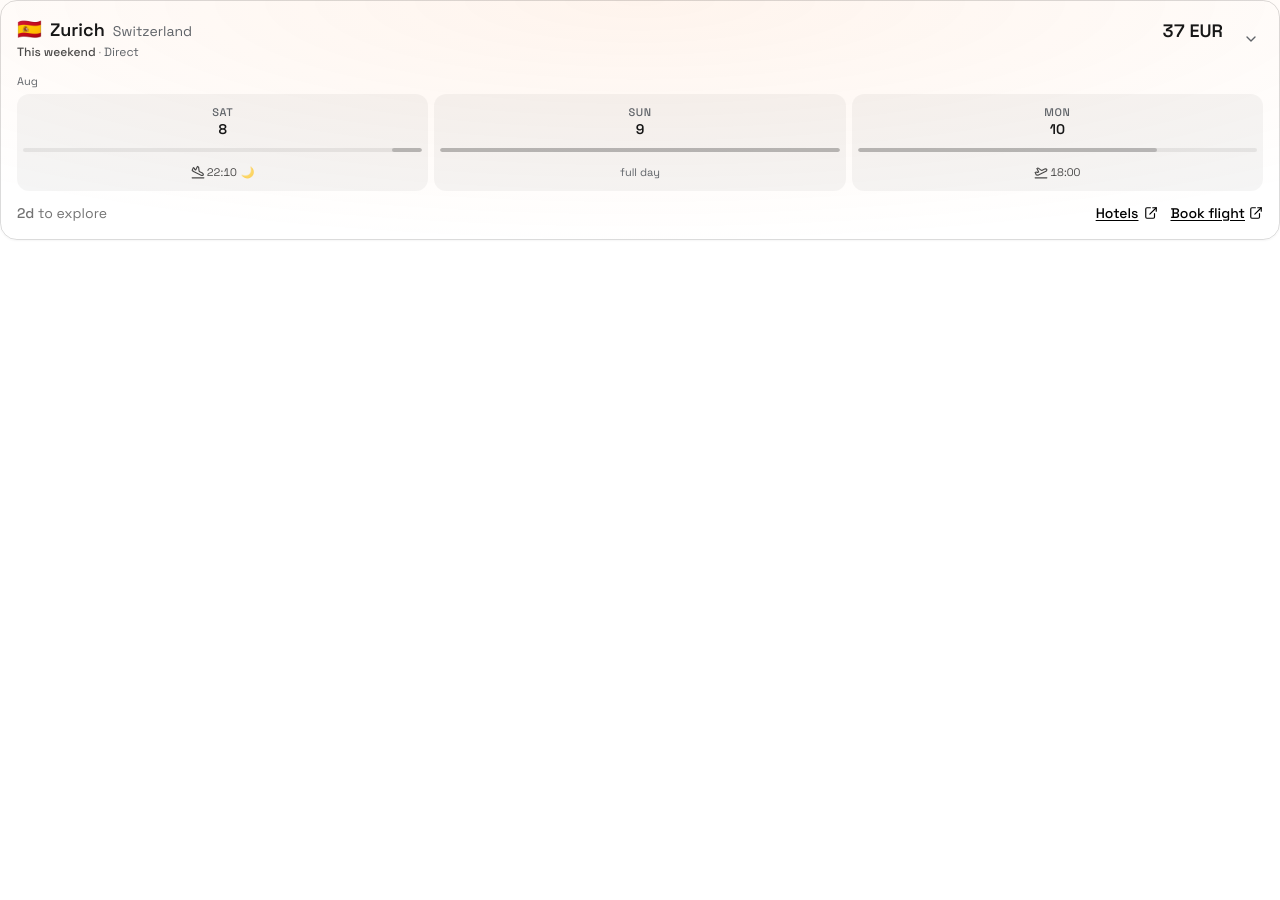
DealCard — regional holidays › hedges a regional holiday to the country, not the city
Click the button named "show details for" at (1251, 39), box x1=1235 y1=17 x2=1267 y2=61
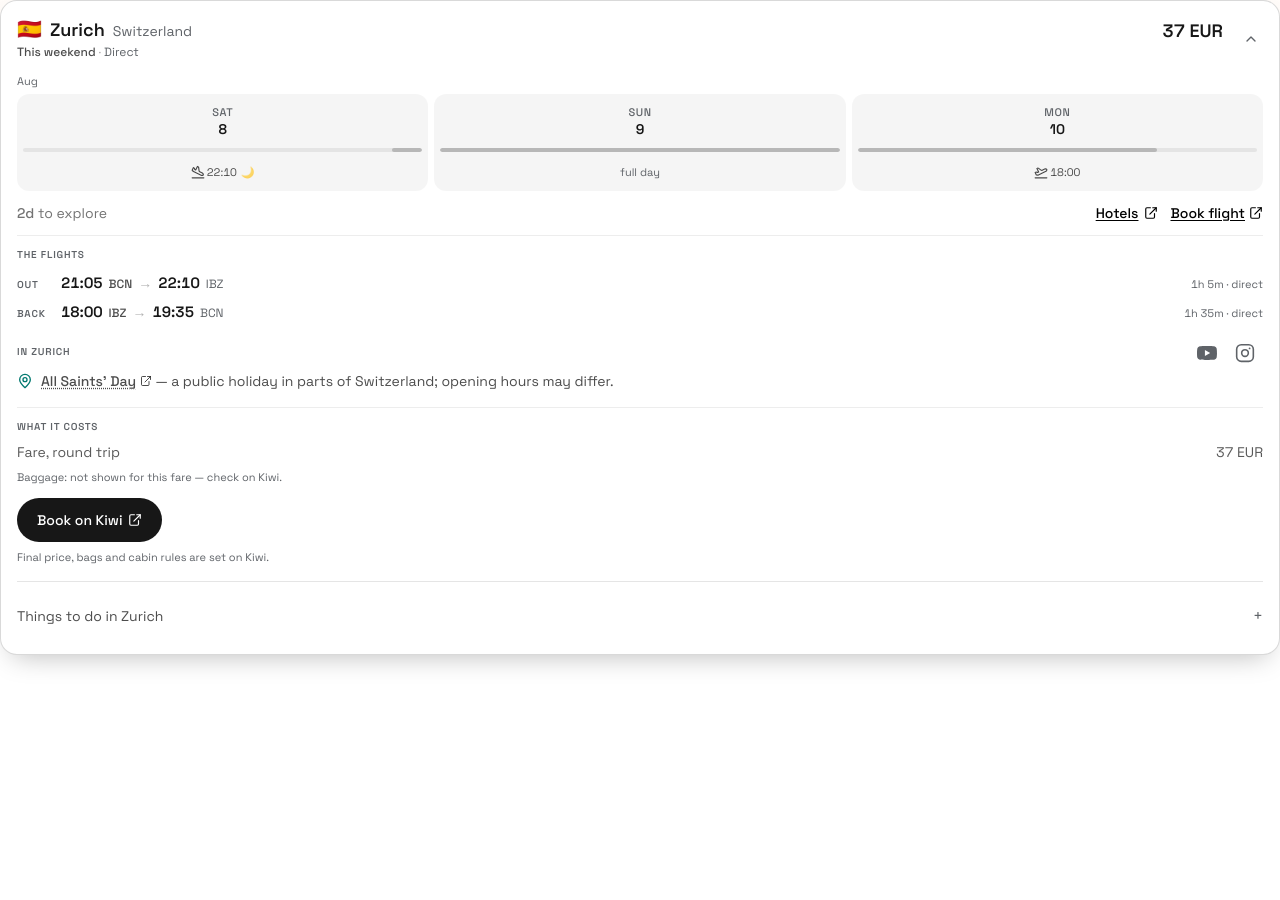
Result: the text "a public holiday in parts of Switzerland" is shown at x1=171 y1=372 x2=434 y2=390
